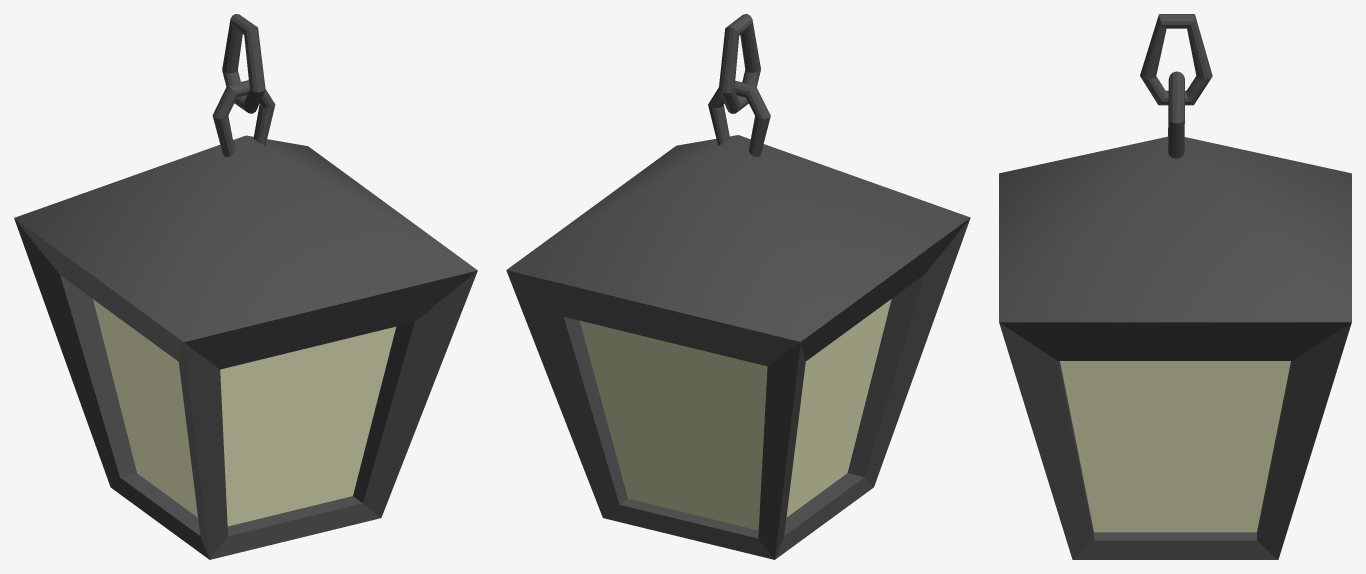
The model's file is LosseLamp.fbx.
The picture shows the model from 3 angles, left to right: view 1: azimuth 30°, elevation 25°; view 2: azimuth 150°, elevation 25°; view 3: azimuth 270°, elevation 25°; orthographic projection. The views are drawn at different scales.
Parts seen in each view (by area): view 1: polySurface3272; view 2: polySurface3272; view 3: polySurface3272.
Boxes of the visible parts, bbox=[...] form: polySurface3272: bbox=[14, 14, 477, 559]; polySurface3272: bbox=[506, 14, 970, 559]; polySurface3272: bbox=[999, 14, 1351, 559].
Size of the model in its own units: 0.227 by 0.3558 by 0.227.
